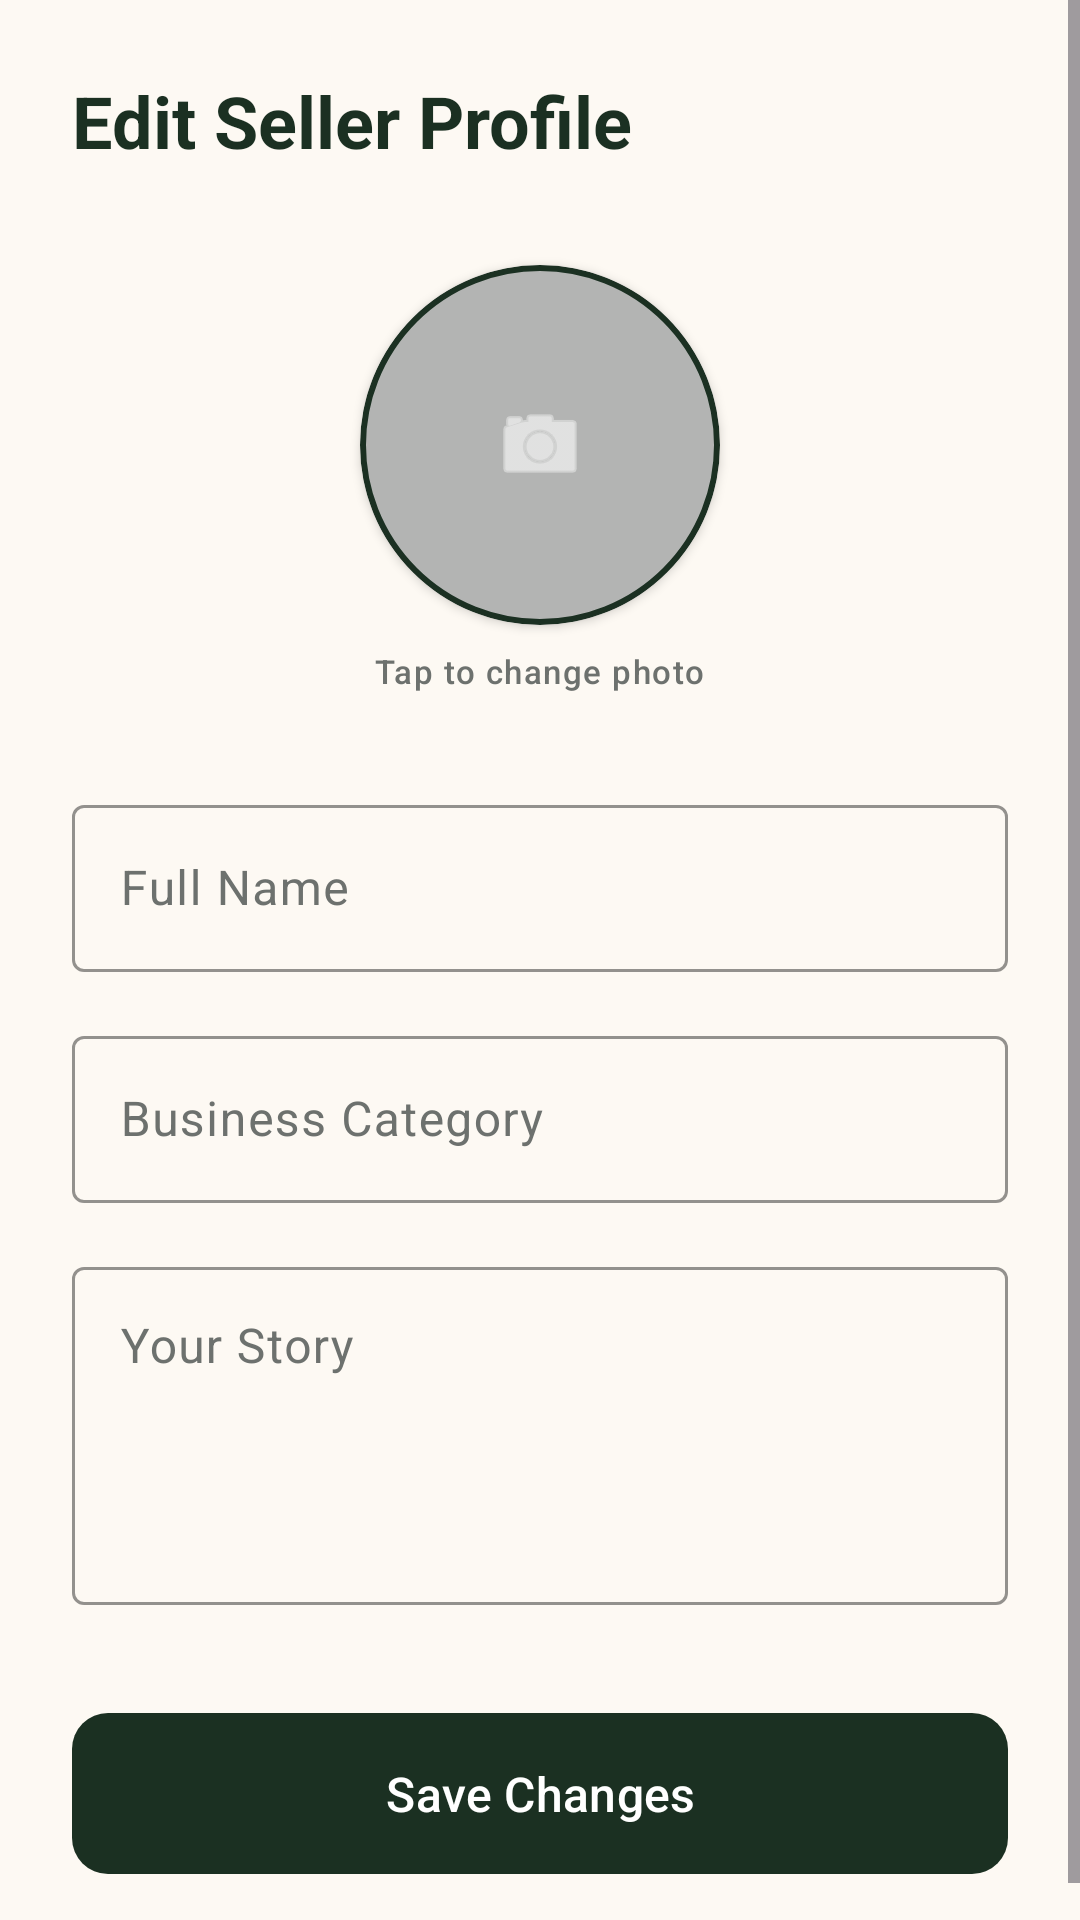

Icon bounding boxes for this 1080w x 1920h phone screenshot, format Rect(x1, y1, x2, y2):
camera: Rect(504, 415, 576, 472)
